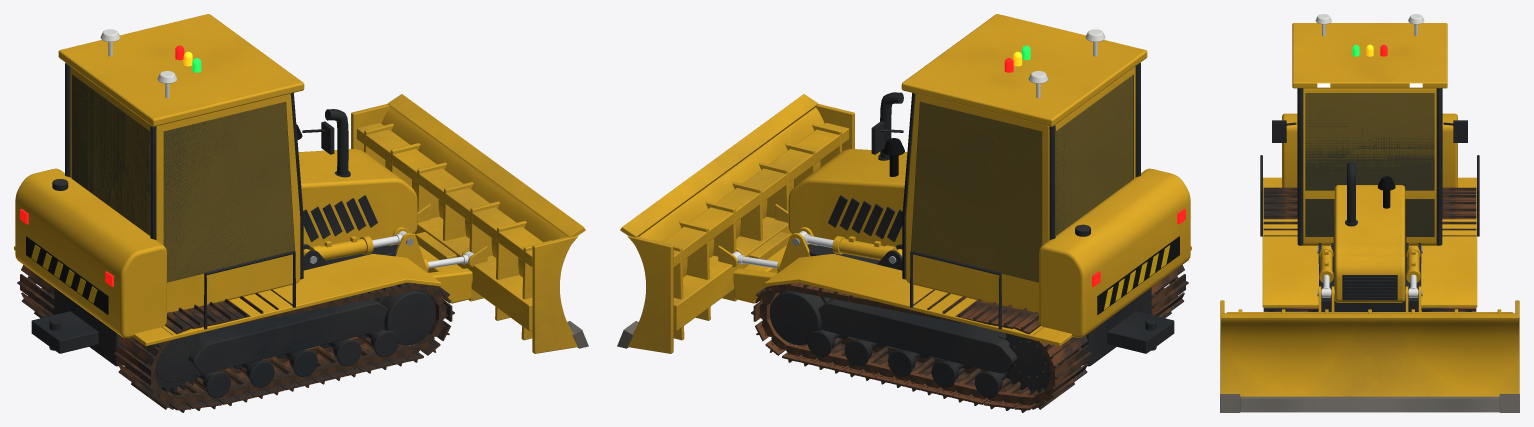
3 views of the same model, side by side, from view 1: azimuth 30°, elevation 25°; view 2: azimuth 150°, elevation 25°; view 3: azimuth 270°, elevation 25° (orthographic). The views are drawn at different scales.
Visible parts, largest first — view 1: cab_shell, cab_glass, cab_roof, rear_tank, blade_frame, track_frame_R, hood, fender_r, moldboard, spill_lip, blade_end_r, cab_pillars (+17 smaller); view 2: cab_shell, cab_glass, cab_roof, rear_tank, blade_frame, track_frame_L, hood, fender_l, moldboard, spill_lip, blade_end_l, cab_pillars (+18 smaller); view 3: moldboard, cab_shell, cab_glass, cab_roof, hood, cutting_edge, fender_l, fender_r, cab_pillars, rear_tank, spill_lip, grilles (+8 smaller).
Boxes of the visible parts, x1,y1,x2,y2 form: cab_shell: (70,66,300,312); cab_glass: (72,74,294,282); cab_roof: (58,14,304,126); rear_tank: (15,168,166,337); blade_frame: (356,123,551,340); track_frame_R: (188,290,435,398); hood: (298,149,417,246); fender_r: (133,254,441,346); moldboard: (381,107,576,277); spill_lip: (387,94,585,237); blade_end_r: (532,236,577,353); cab_pillars: (65,63,334,329); cab_shell: (905,66,1135,312); cab_glass: (911,74,1133,282); cab_roof: (901,14,1147,126); rear_tank: (1039,168,1190,337); blade_frame: (654,123,849,340); track_frame_L: (770,290,1017,398); hood: (788,149,907,246); fender_l: (764,254,1072,346); moldboard: (629,107,824,277); spill_lip: (620,94,818,237); blade_end_l: (628,236,673,353); cab_pillars: (871,63,1140,329); moldboard: (1222,318,1517,396); cab_shell: (1300,88,1439,245); cab_glass: (1297,88,1442,236); cab_roof: (1292,23,1447,88); hood: (1334,185,1405,302); cutting_edge: (1220,394,1519,412); fender_l: (1421,177,1477,307); fender_r: (1262,177,1318,307); cab_pillars: (1260,88,1479,245); rear_tank: (1282,113,1457,187); spill_lip: (1222,313,1517,318); grilles: (1333,217,1406,300).
Bounding box in the file's own units: 4.58 × 3.04 × 3.24.
Materials: 17 (6 with a texture image).
